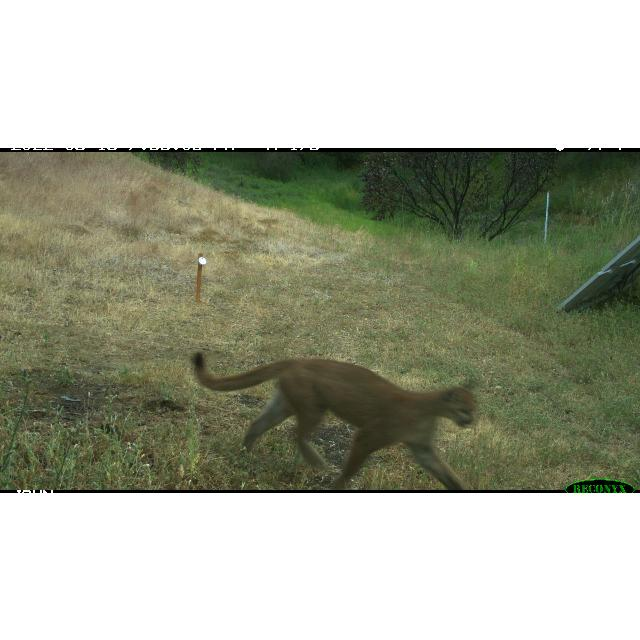animals: (192, 348, 486, 489)
